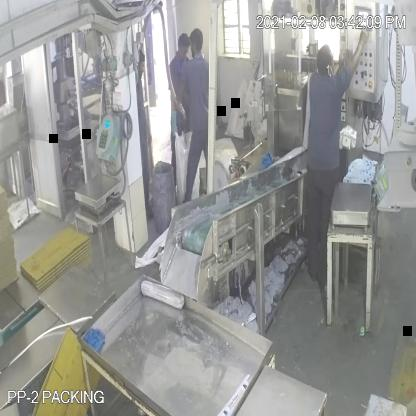no_glove: (337, 22, 375, 86)
